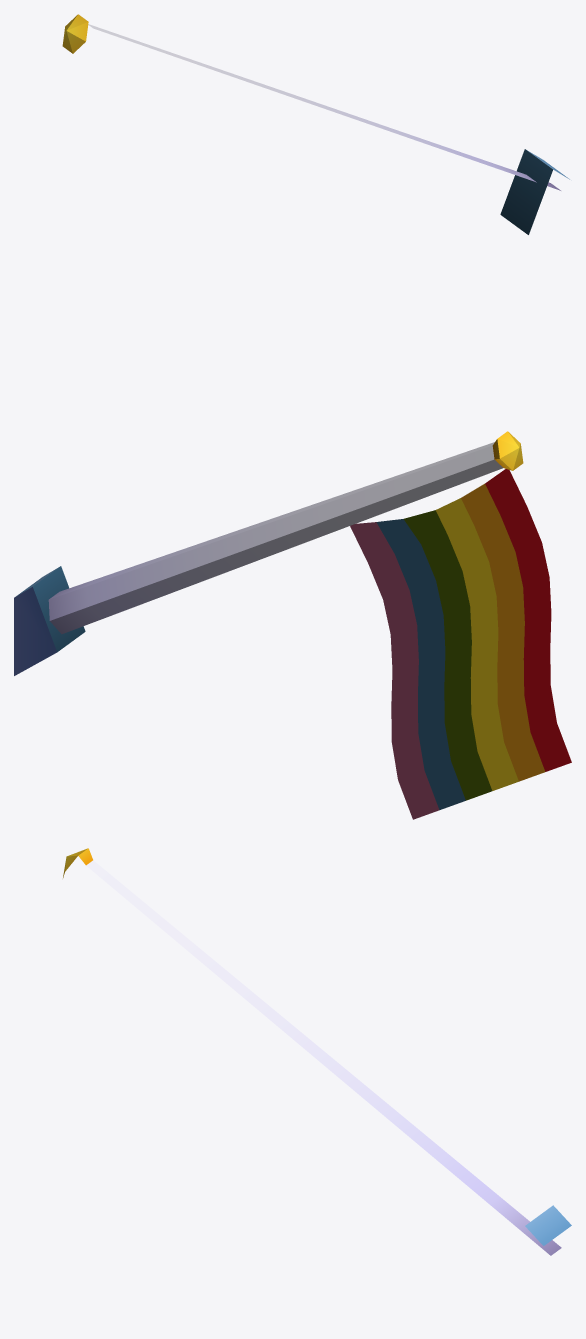
File: 1.100_SanFrancisco_extra_04.glb
The picture shows the model from 3 angles, top to bottom: view 1: azimuth 30°, elevation 25°; view 2: azimuth 150°, elevation 25°; view 3: azimuth 330°, elevation 25°; orthographic projection.
Parts seen in each view (by area): view 1: 1.100_SanFrancisco_extra_04; view 2: 1.100_SanFrancisco_extra_04; view 3: 1.100_SanFrancisco_extra_04.
Part boxes in pixels (left/top/right/bottom): 1.100_SanFrancisco_extra_04: left=62, top=14, right=569, bottom=234; 1.100_SanFrancisco_extra_04: left=14, top=431, right=571, bottom=819; 1.100_SanFrancisco_extra_04: left=63, top=848, right=571, bottom=1255.
Bounding box in the file's own units: 25.27 × 18.06 × 2.28.
Materials: 1 (1 with a texture image).
